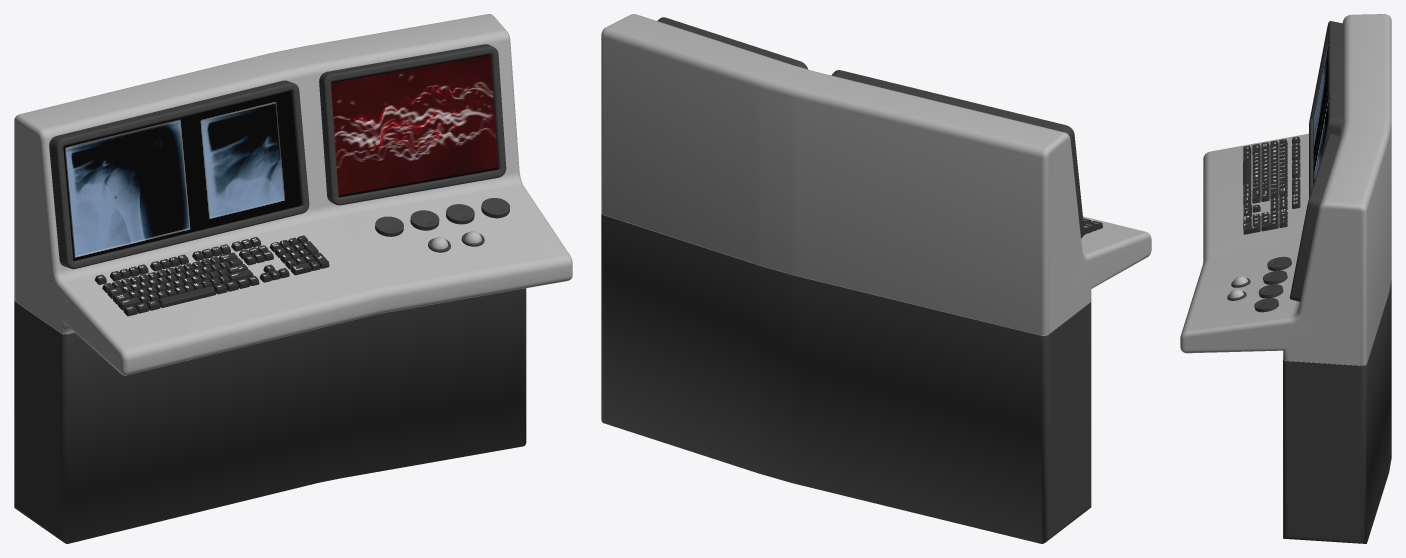
Rendered from Diagnostic_Machine.fbx.
3 renders of one model, left to right at view 1: azimuth 30°, elevation 25°; view 2: azimuth 150°, elevation 25°; view 3: azimuth 270°, elevation 25°, orthographic. The views are drawn at different scales.
Visible parts, largest first — view 1: cadnav.com; view 2: cadnav.com; view 3: cadnav.com.
Boxes of the visible parts, x1,y1,x2,y2 form: cadnav.com: [14, 14, 572, 543]; cadnav.com: [601, 14, 1151, 543]; cadnav.com: [1180, 14, 1391, 543].
Bounding box in the file's own units: 441 × 359 × 203.
Materials: 4 (2 with a texture image).
